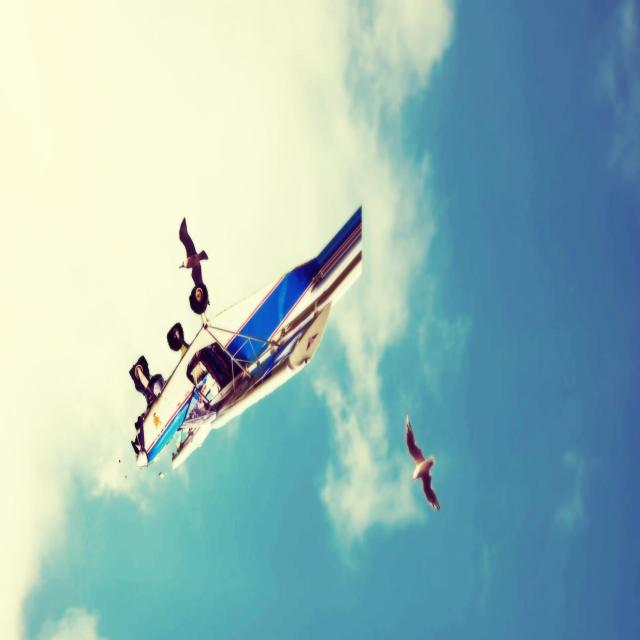airplane: (129, 205, 363, 471)
